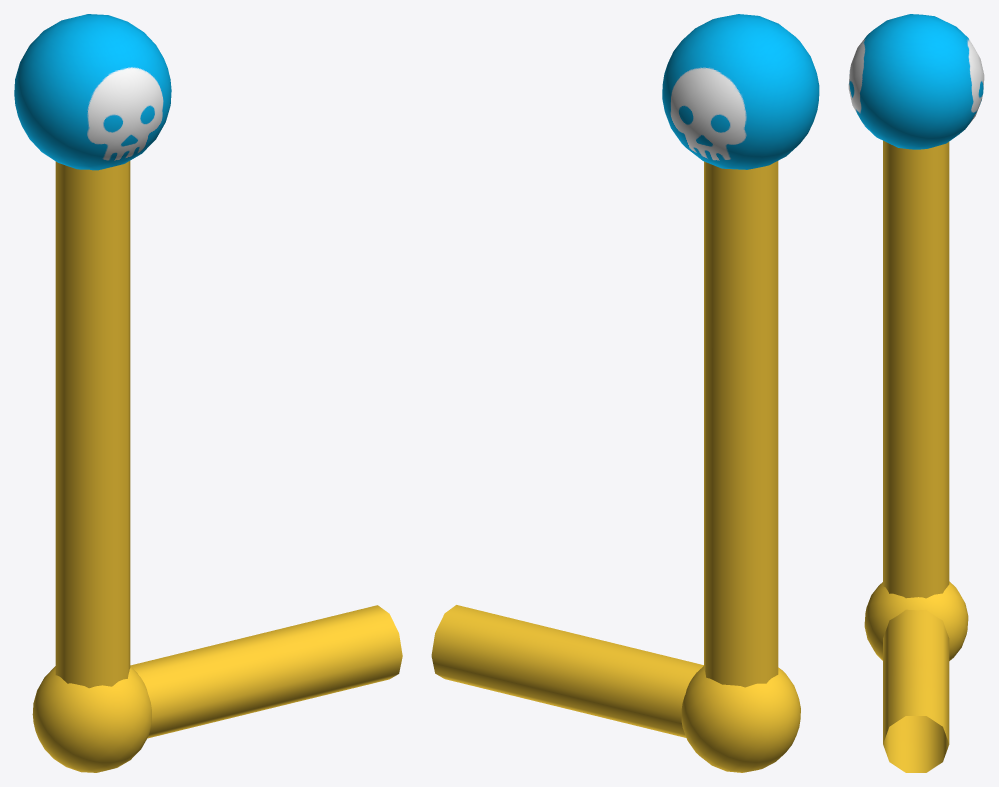
The model's file is obstacle_hammer_base.FBX.
3 views of the same model, side by side, from view 1: azimuth 30°, elevation 25°; view 2: azimuth 150°, elevation 25°; view 3: azimuth 270°, elevation 25° (orthographic). The views are drawn at different scales.
Visible parts, largest first — view 1: obstacle_hammer_base; view 2: obstacle_hammer_base; view 3: obstacle_hammer_base.
Part boxes in pixels (left/top/right/bottom): obstacle_hammer_base: left=14, top=14, right=402, bottom=772; obstacle_hammer_base: left=431, top=14, right=819, bottom=772; obstacle_hammer_base: left=848, top=14, right=984, bottom=772.
Bounding box in the file's own units: 4.72 × 9.37 × 1.78.
Materials: 1 (1 with a texture image).
